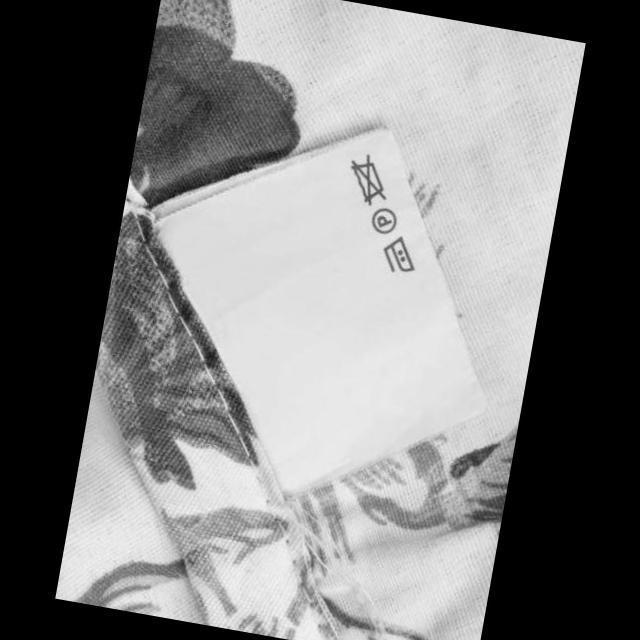DN_wash: (342, 150, 396, 210)
iron_medium: (376, 230, 422, 278)
normal_dry_clean_solvents: (368, 203, 401, 236)
